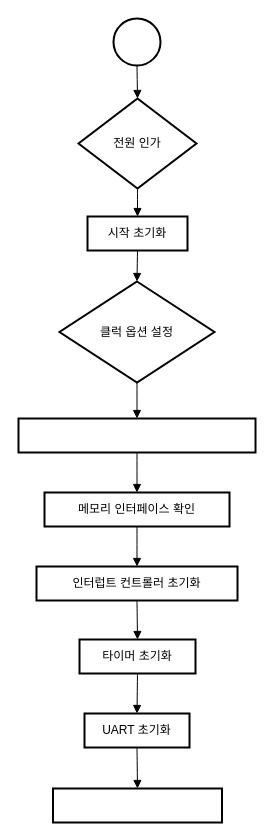
Some shapes in this 273 by 840 pixel diagram are drawn without their labels. The shapes that lost their labels are listed below. From the top down, each one's centre as x and y in pixels, then its label:
At point (136, 41): "시작".
At point (136, 435): "외부 주변장치 인터페이스 확인".
At point (137, 805): "디바이스 초기화 완료".
